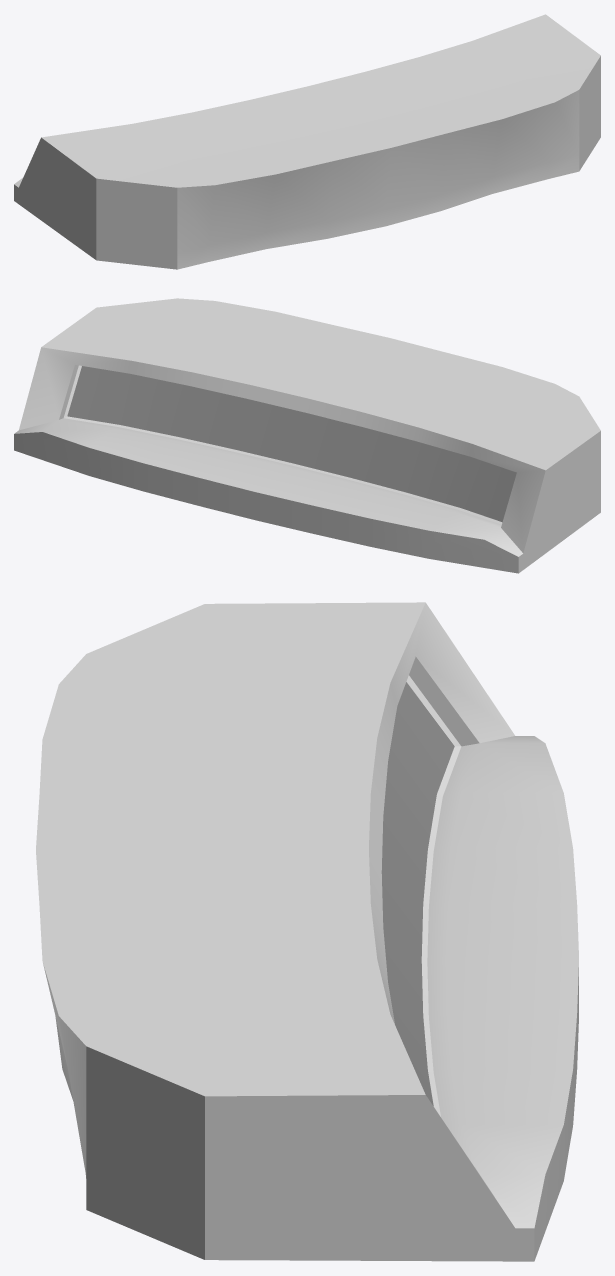
File: menu_base.glb
3 renders of one model, top to bottom at view 1: azimuth 30°, elevation 25°; view 2: azimuth 150°, elevation 25°; view 3: azimuth 270°, elevation 25°, orthographic. The views are drawn at different scales.
Parts seen in each view (by area): view 1: Cylinder.001; view 2: Cylinder.001; view 3: Cylinder.001.
Boxes of the visible parts, left/top/right/bottom form: Cylinder.001: left=14, top=14, right=600, bottom=269; Cylinder.001: left=14, top=298, right=600, bottom=573; Cylinder.001: left=36, top=602, right=578, bottom=1261.
Size of the model in its own units: 1.43 by 0.2254 by 0.666.
1 material, 1 textured.
